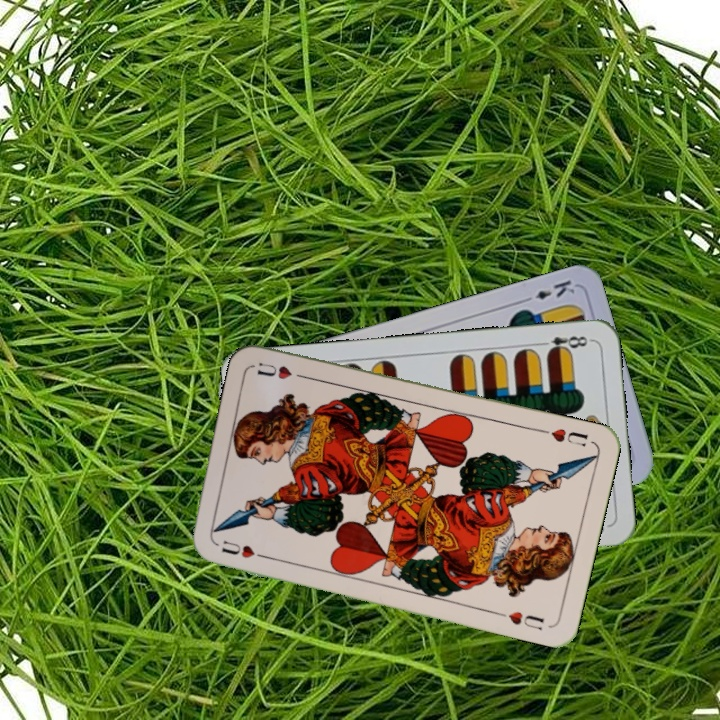E8: (534, 332, 594, 357)
EK: (518, 275, 578, 306)
HU: (536, 424, 591, 449), (217, 536, 258, 561)
